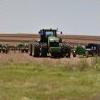Tractor: (24, 20, 72, 61)
